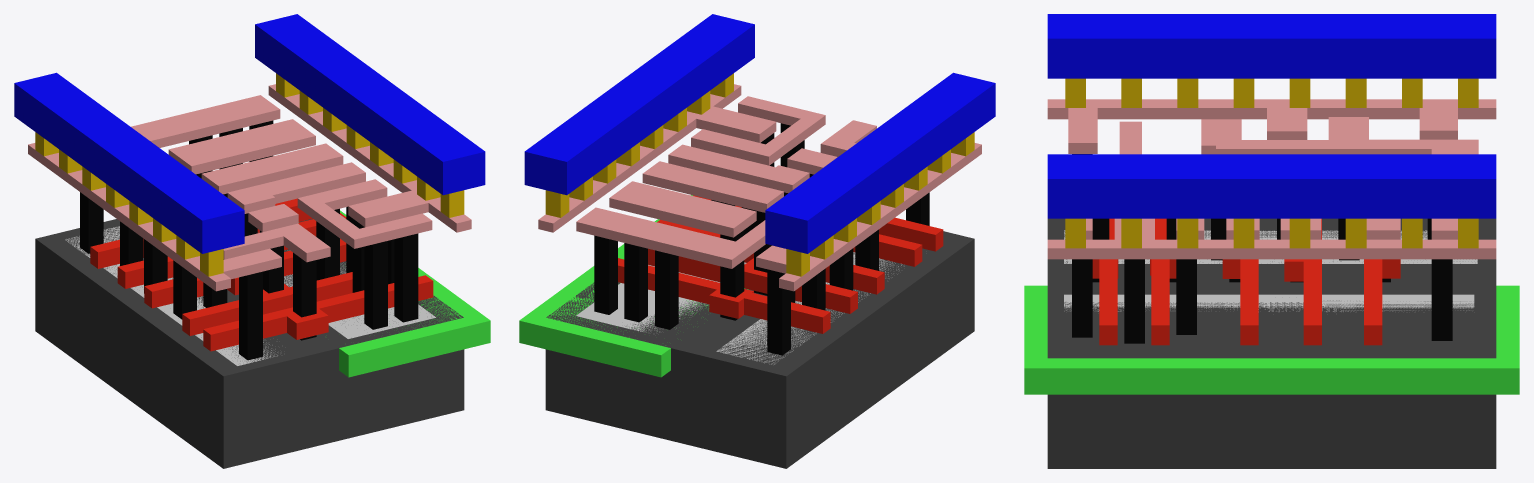
File: sky130_fd_sc_hd__a2111oi_1.obj
The picture shows the model from 3 angles, left to right: view 1: azimuth 30°, elevation 25°; view 2: azimuth 150°, elevation 25°; view 3: azimuth 270°, elevation 25°; orthographic projection. The views are drawn at different scales.
Visible parts, largest first — view 1: subs, metal1, li, licon, poly, nwell, mcon, diff, tap; view 2: subs, metal1, li, licon, poly, nwell, mcon, diff, tap; view 3: subs, metal1, li, nwell, mcon, poly, licon, tap, diff.
Part boxes in pixels (x1,y1,x2,y2): subs: (35, 218, 464, 468); metal1: (14, 14, 485, 253); li: (28, 84, 471, 291); licon: (80, 120, 418, 360); poly: (90, 198, 433, 351); nwell: (339, 210, 490, 377); mcon: (35, 73, 464, 276); diff: (65, 226, 277, 365); tap: (284, 250, 435, 338); subs: (545, 231, 974, 468); metal1: (524, 14, 995, 253); li: (538, 84, 981, 291); licon: (594, 123, 929, 355); poly: (618, 195, 943, 333); nwell: (519, 195, 748, 377); mcon: (545, 73, 974, 276); diff: (716, 252, 904, 364); tap: (576, 262, 746, 332); subs: (1047, 218, 1496, 468); metal1: (1047, 14, 1496, 218); li: (1047, 99, 1496, 259); nwell: (1024, 285, 1519, 394); mcon: (1065, 78, 1478, 248); poly: (1092, 218, 1400, 345); licon: (1072, 154, 1452, 343); tap: (1064, 294, 1474, 311); diff: (1064, 230, 1477, 263).
Bounding box in the file's own units: 3.2 × 2.74 × 4.06.
